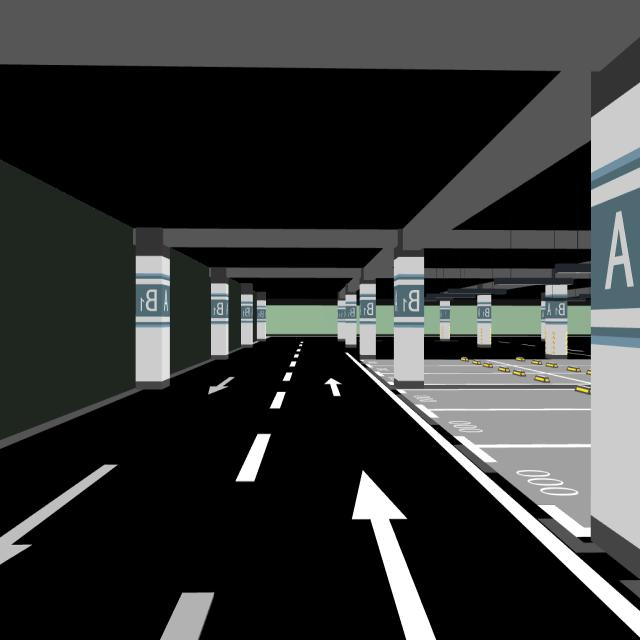simu_pillar: (135, 255, 170, 388), (394, 256, 424, 388), (545, 284, 568, 358), (211, 283, 229, 359), (359, 283, 376, 357), (478, 294, 491, 346), (345, 294, 356, 347), (241, 294, 252, 346), (258, 300, 266, 340)
